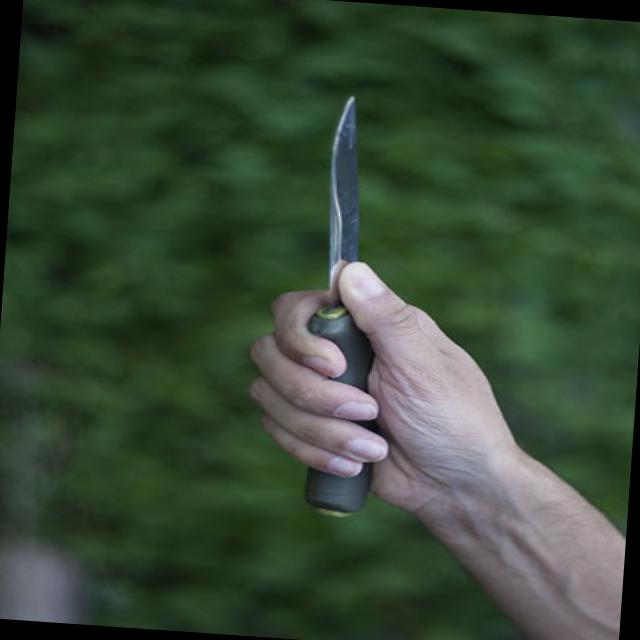knife: (232, 68, 422, 480)
